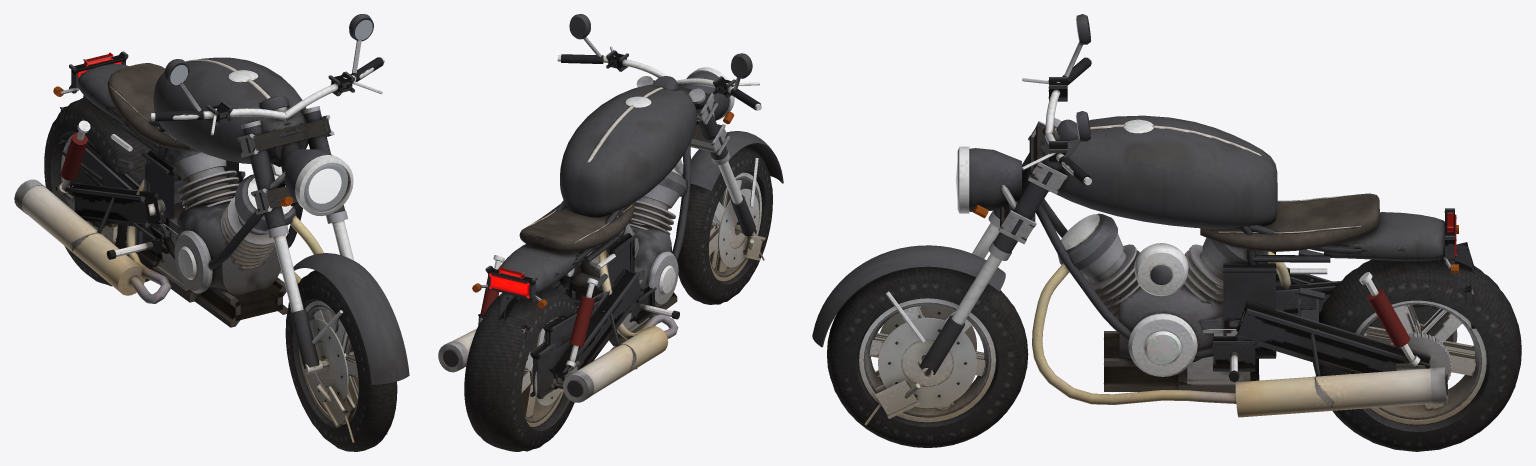
File: bike-v4.glb
The picture shows the model from 3 angles, left to right: view 1: azimuth 30°, elevation 25°; view 2: azimuth 150°, elevation 25°; view 3: azimuth 270°, elevation 25°; orthographic projection. The views are drawn at different scales.
Parts seen in each view (by area): view 1: body, wheel-front, wheel-back; view 2: body, wheel-back, wheel-front; view 3: body, wheel-front, wheel-back.
Boxes of the visible parts, <box> form: body: <box>14,14,409,442</box>; wheel-front: <box>285,270,397,451</box>; wheel-back: <box>44,97,183,286</box>; body: <box>438,14,783,402</box>; wheel-back: <box>464,286,577,451</box>; wheel-front: <box>676,146,772,304</box>; body: <box>812,14,1475,425</box>; wheel-front: <box>827,267,1028,447</box>; wheel-back: <box>1313,258,1521,451</box>.
Bounding box in the file's own units: 0.9352 × 1.36 × 2.29.
23 materials, 18 textured.
